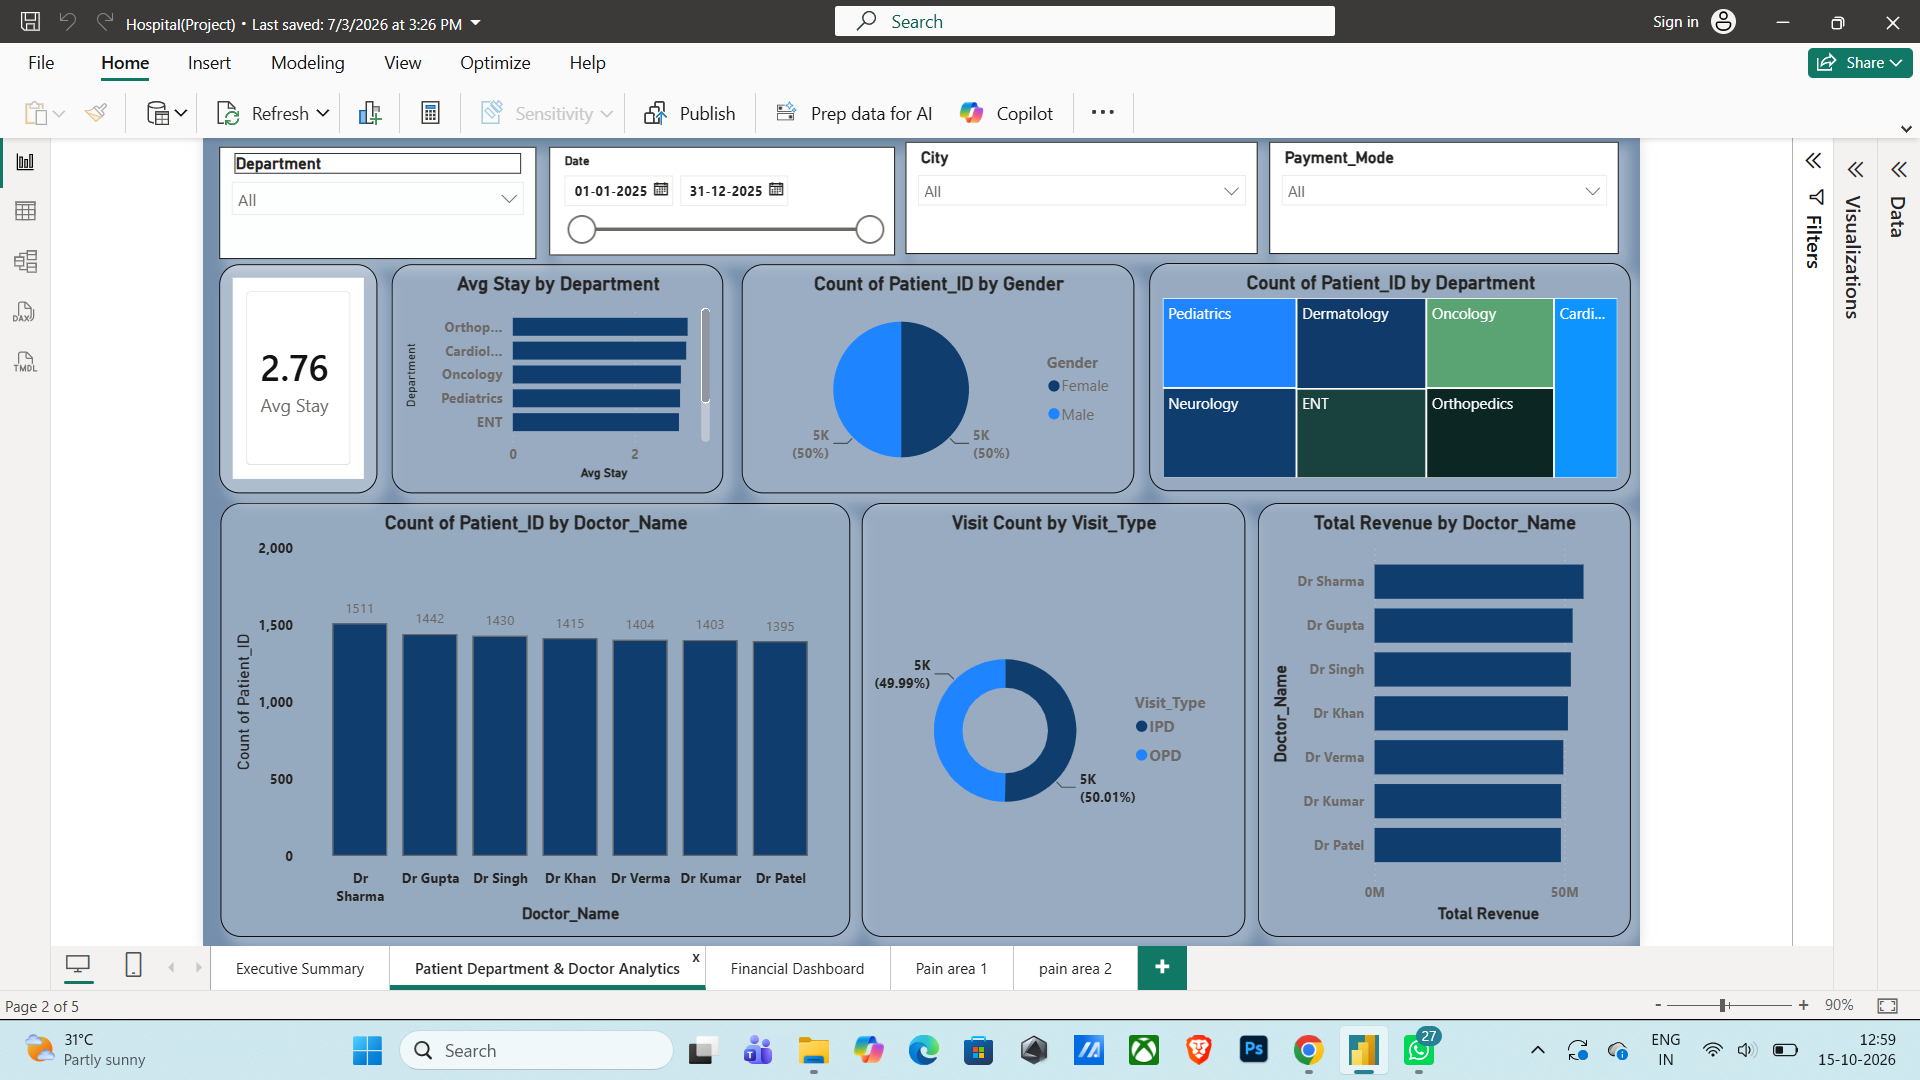

What the dashboard file says about the page in this screenshot:
{"tool":"powerbi","page":{"name":"Patient Department & Doctor Analytics","canvas":[1280,720],"ordinal":1},"visuals":[{"type":"slicer","fields":{"Values":["Hospital_Data.Date"]},"box":[308.8,7.2,307.6,96.5],"z":0},{"type":"slicer","fields":{"Values":["Hospital_Data.Department"]},"box":[14.5,7.2,282.3,100.1],"z":1000},{"type":"slicer","fields":{"Values":["Hospital_Data.City"]},"box":[626.1,3.6,313.7,100.1],"z":2000},{"type":"slicer","fields":{"Values":["Hospital_Data.Payment_Mode"]},"box":[949.5,3.6,311.3,100.1],"z":3000},{"type":"pieChart","fields":{"Category":["Hospital_Data.Gender"],"Y":["CountNonNull(Hospital_Data.Patient_ID)"]},"box":[480.2,112.2,349.9,203.9],"z":4000},{"type":"treemap","fields":{"Group":["Hospital_Data.Department"],"Values":["CountNonNull(Hospital_Data.Patient_ID)"]},"box":[843,111.6,429.1,203.5],"z":5000},{"type":"barChart","fields":{"Category":["Hospital_Data.Doctor_Name"],"Y":["Hospital_Data.Total Revenue"]},"box":[939.8,324.5,331.8,386.1],"z":6000},{"type":"clusteredColumnChart","fields":{"Category":["Hospital_Data.Doctor_Name"],"Y":["Count(Hospital_Data.Patient_ID)"]},"box":[15.7,324.5,561,386.1],"z":7000},{"type":"barChart","fields":{"Category":["Hospital_Data.Department"],"Y":["Hospital_Data.Avg Stay"]},"box":[167.7,112.2,295.6,203.9],"z":8000},{"type":"cardVisual","fields":{"Data":["Hospital_Data.Avg Stay"]},"box":[14.5,112.2,141.2,203.9],"z":9000},{"type":"donutChart","fields":{"Category":["Hospital_Data.Visit_Type"],"Y":["Hospital_Data.Visit Count"]},"box":[586.3,324.5,341.4,386.1],"z":10000}]}

Visuals, with their boxes on the page's 1280x720 design canvas (x1, y1, x2, y2). These are canvas units, not pixel positions in the 1920x1080 screenshot, which may show the page scaled, cropped or inside an application window:
slicer - Hospital_Data.Date: crop(309, 7, 616, 104)
slicer - Hospital_Data.Department: crop(14, 7, 297, 107)
slicer - Hospital_Data.City: crop(626, 4, 940, 104)
slicer - Hospital_Data.Payment_Mode: crop(950, 4, 1261, 104)
pieChart - Hospital_Data.Gender x CountNonNull(Hospital_Data.Patient_ID): crop(480, 112, 830, 316)
treemap - Hospital_Data.Department x CountNonNull(Hospital_Data.Patient_ID): crop(843, 112, 1272, 315)
barChart - Hospital_Data.Doctor_Name x Hospital_Data.Total Revenue: crop(940, 324, 1272, 711)
clusteredColumnChart - Hospital_Data.Doctor_Name x Count(Hospital_Data.Patient_ID): crop(16, 324, 577, 711)
barChart - Hospital_Data.Department x Hospital_Data.Avg Stay: crop(168, 112, 463, 316)
cardVisual - Hospital_Data.Avg Stay: crop(14, 112, 156, 316)
donutChart - Hospital_Data.Visit_Type x Hospital_Data.Visit Count: crop(586, 324, 928, 711)
